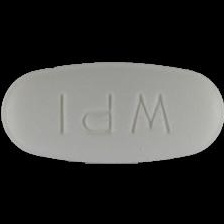68788-7381: (0, 0, 224, 224)
